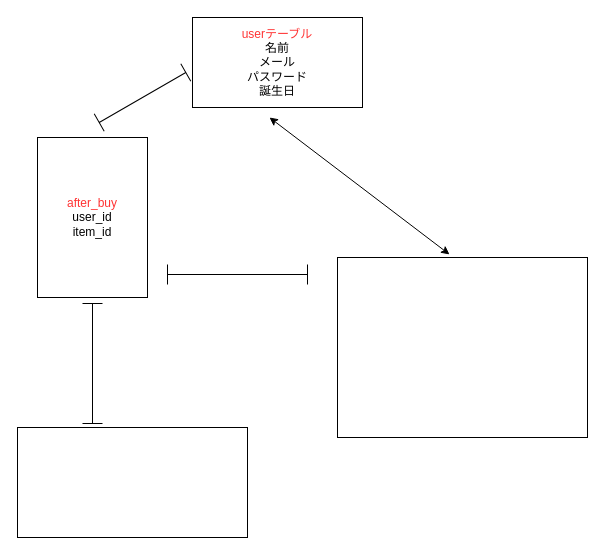
Some shapes in this 605 by 555 pixel diagram are drawn without their labels. The centre of each missing label's shape, as x and y in pixels:
buyテーブル クレジットカード 郵便番号 都道府県 市区町村 番地 電話番号: (132,482)
itemテーブル 商品画像 商品名 商品説明 カテゴリー 商品の状態 配送料 発送元の住所 発送日 価格（300〜9,999,999） 手数料 利益: (462,347)
